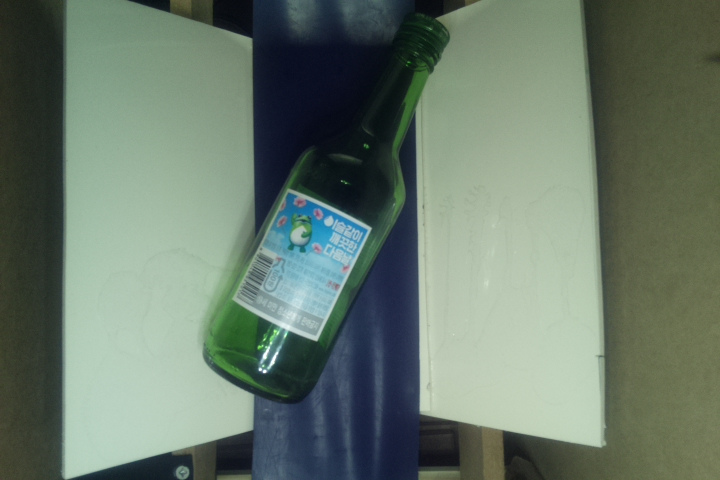soju: (200, 12, 455, 406)
